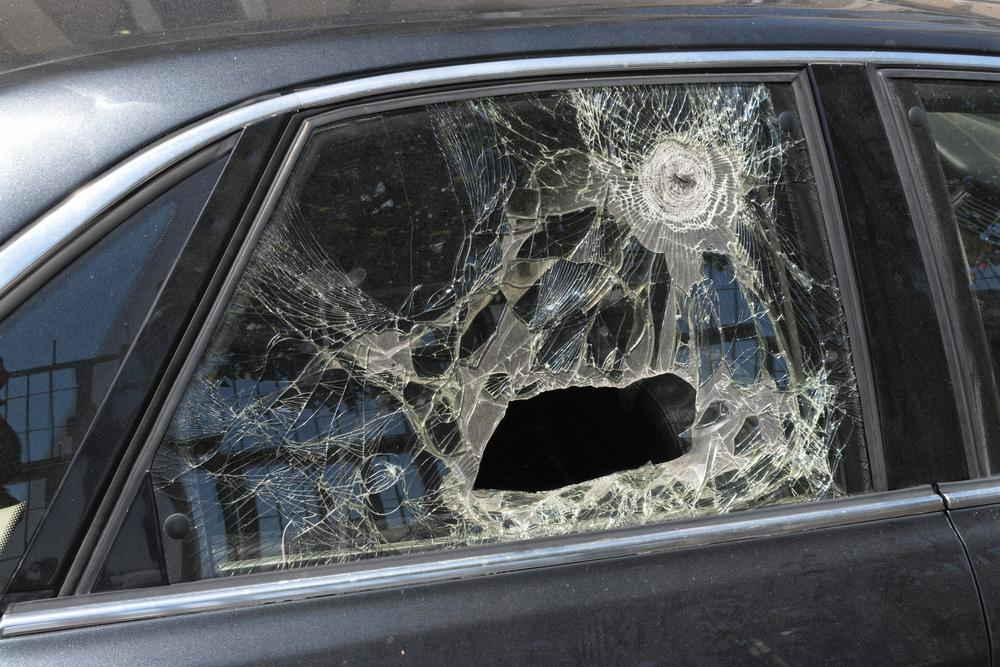glass shatter: (152, 83, 873, 585)
